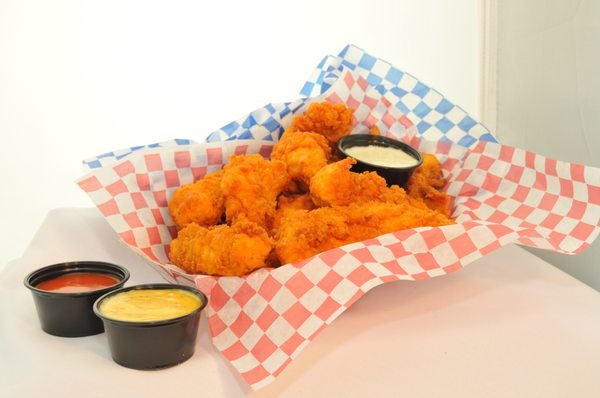pizza: (93, 282, 208, 370)
sushi: (93, 282, 208, 370), (23, 261, 131, 338), (337, 132, 423, 187)
